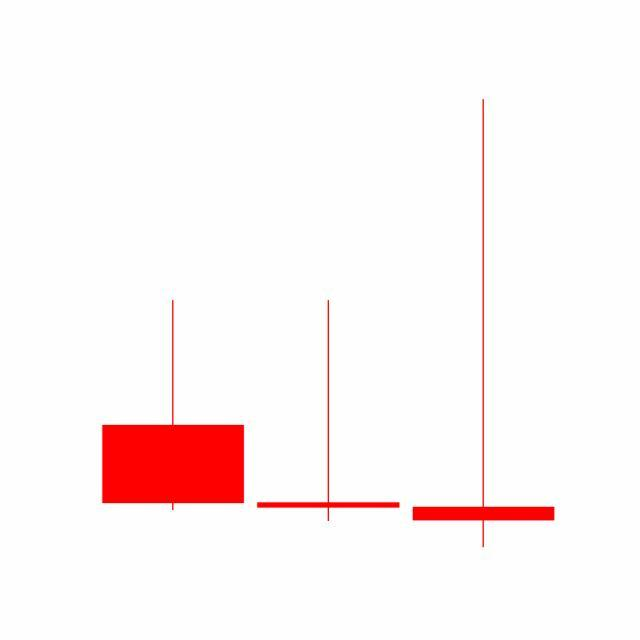Spinning Top: (250, 298, 407, 524)
